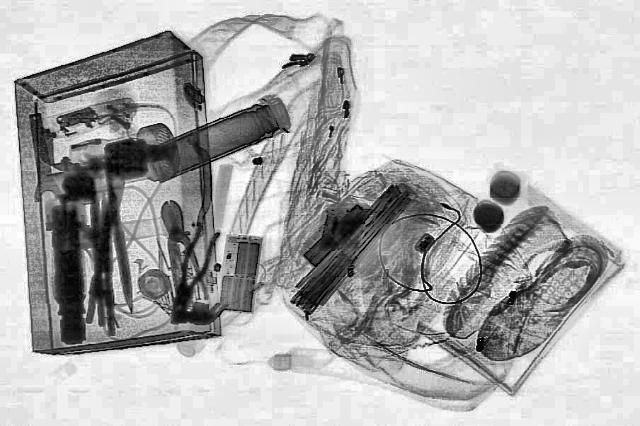Pliers: (158, 219, 225, 323), (152, 197, 212, 305)
